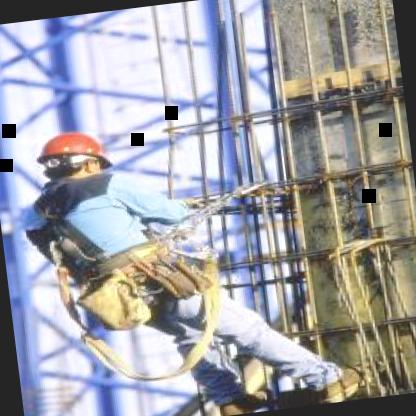helmet: (35, 122, 116, 190)
